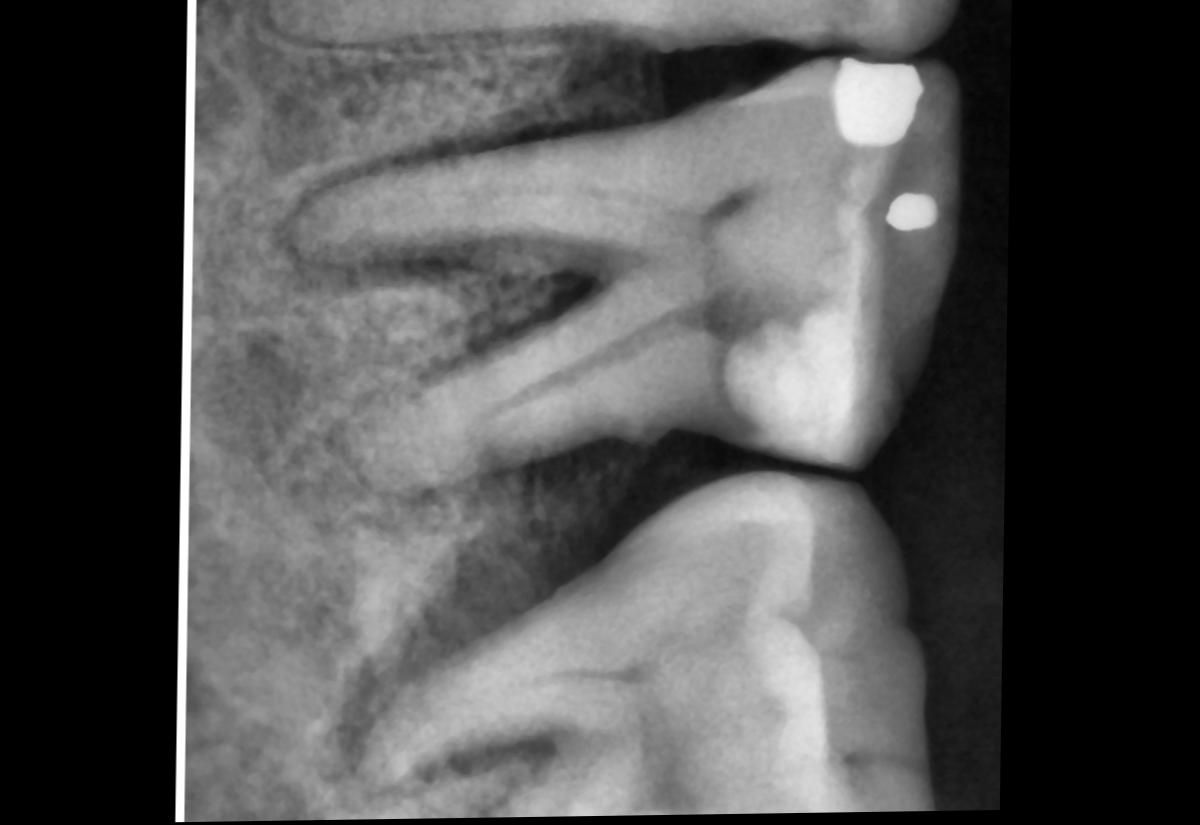Individual Tooth: (293, 60, 957, 490), (361, 474, 940, 819), (271, 0, 957, 55)
